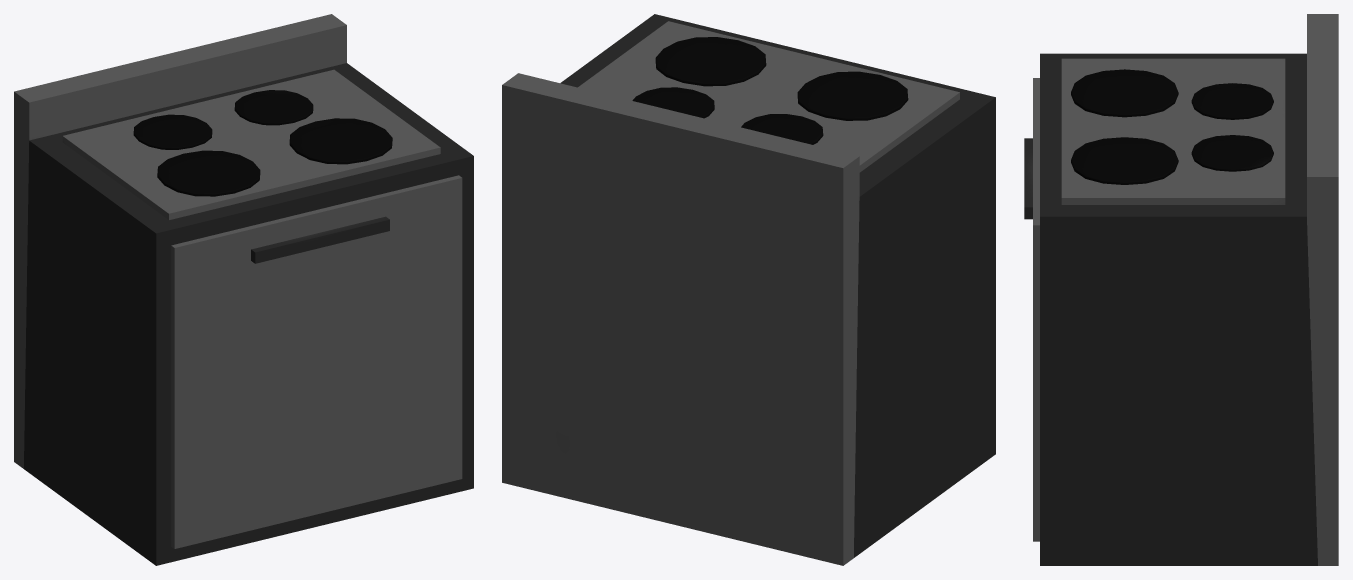
The model's file is Stove.fbx.
The picture shows the model from 3 angles, left to right: view 1: azimuth 30°, elevation 25°; view 2: azimuth 150°, elevation 25°; view 3: azimuth 270°, elevation 25°; orthographic projection. The views are drawn at different scales.
Parts seen in each view (by area): view 1: Stove; view 2: Stove; view 3: Stove.
Boxes of the visible parts, x1=… form: Stove: x1=14, y1=14, x2=473, y2=565; Stove: x1=502, y1=14, x2=995, y2=565; Stove: x1=1024, y1=14, x2=1338, y2=565.
Size of the model in its own units: 73.23 by 81.57 by 59.73.
1 material, 1 textured.
